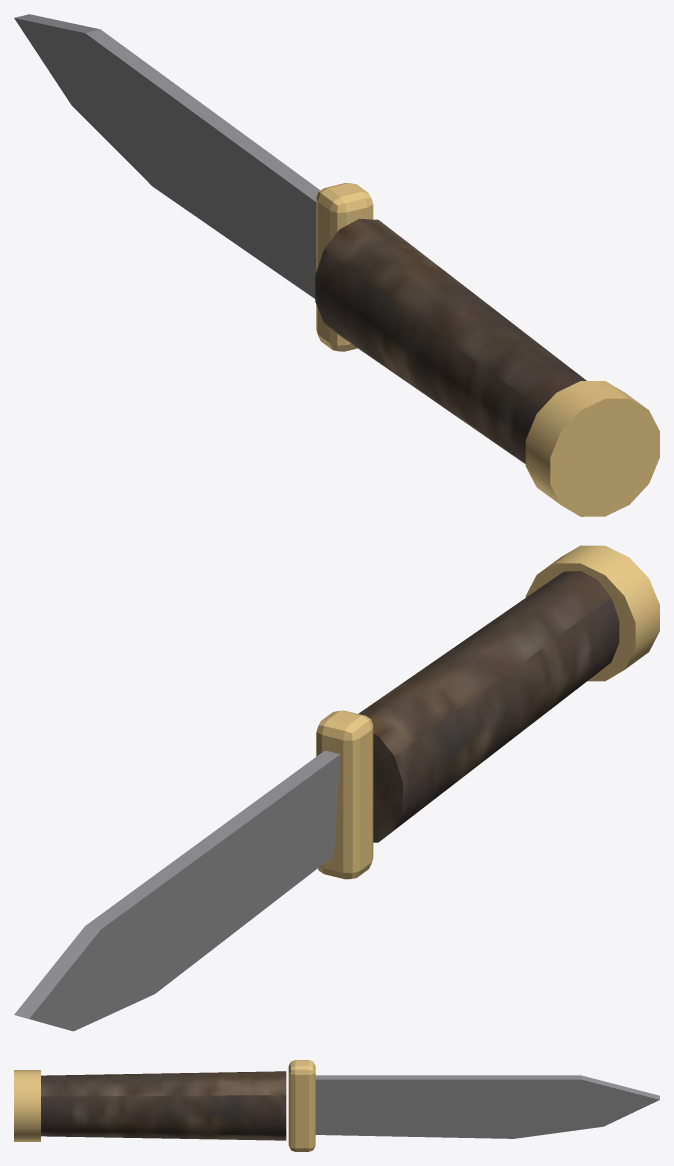
Rendered from knife.glb.
The picture shows the model from 3 angles, top to bottom: view 1: azimuth 30°, elevation 25°; view 2: azimuth 150°, elevation 25°; view 3: azimuth 270°, elevation 25°; orthographic projection. The views are drawn at different scales.
Parts seen in each view (by area): view 1: Blade, handle, pommel, guard; view 2: Blade, handle, guard, pommel; view 3: Blade, handle, guard, pommel.
Part boxes in pixels (x1,y1,x2,y2): Blade: (14,14,320,298); handle: (315,218,586,463); pommel: (525,381,659,516); guard: (316,183,373,351); Blade: (14,750,340,1031); handle: (358,570,619,842); guard: (316,710,373,879); pommel: (525,545,659,681); Blade: (315,1075,659,1138); handle: (41,1071,286,1140); guard: (288,1060,315,1151); pommel: (14,1070,40,1141).
Bounding box in the file's own units: 0.0312 × 0.042 × 0.287.
Materials: 3 (1 with a texture image).
